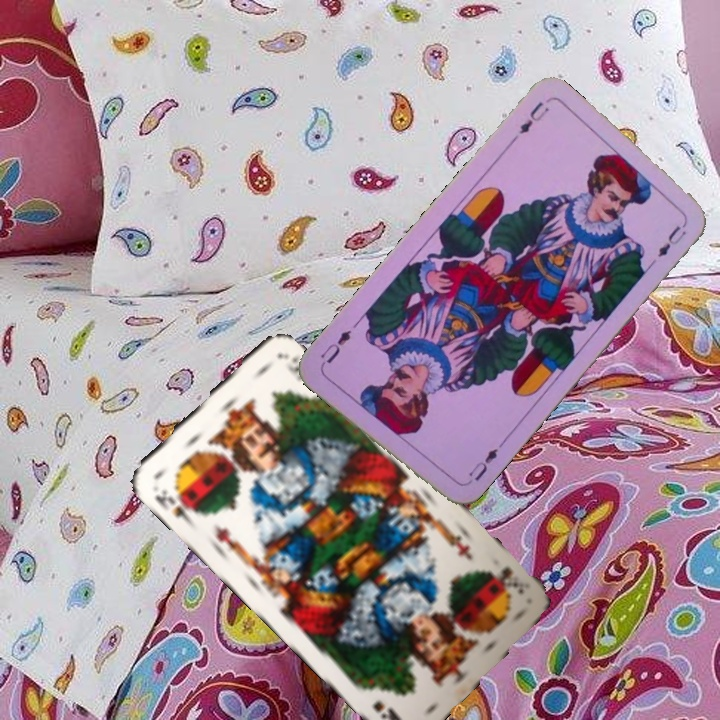EU: (460, 444, 501, 489), (515, 97, 552, 137)
SK: (151, 485, 202, 527), (497, 562, 533, 597)
